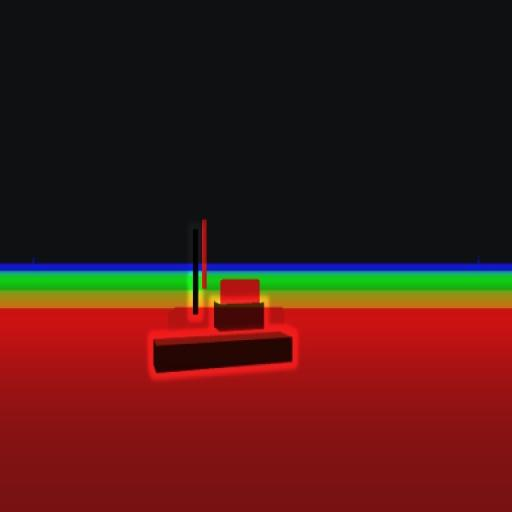fishing_boat: (151, 240, 295, 372)
